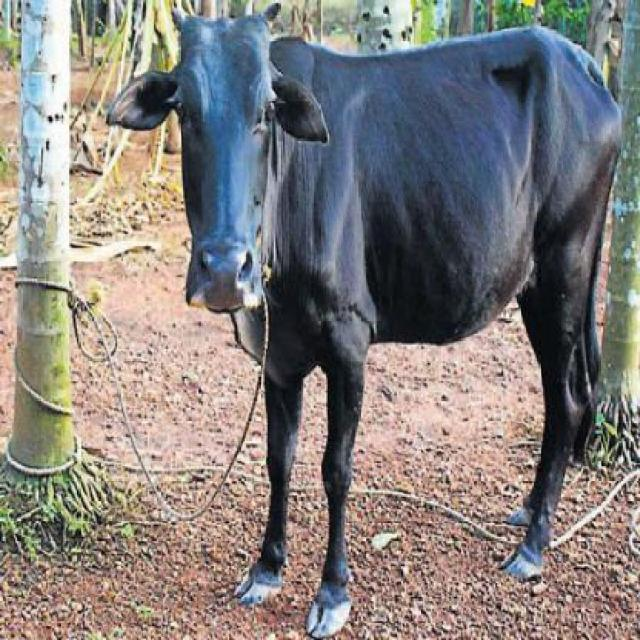Cow: (107, 0, 638, 638)
